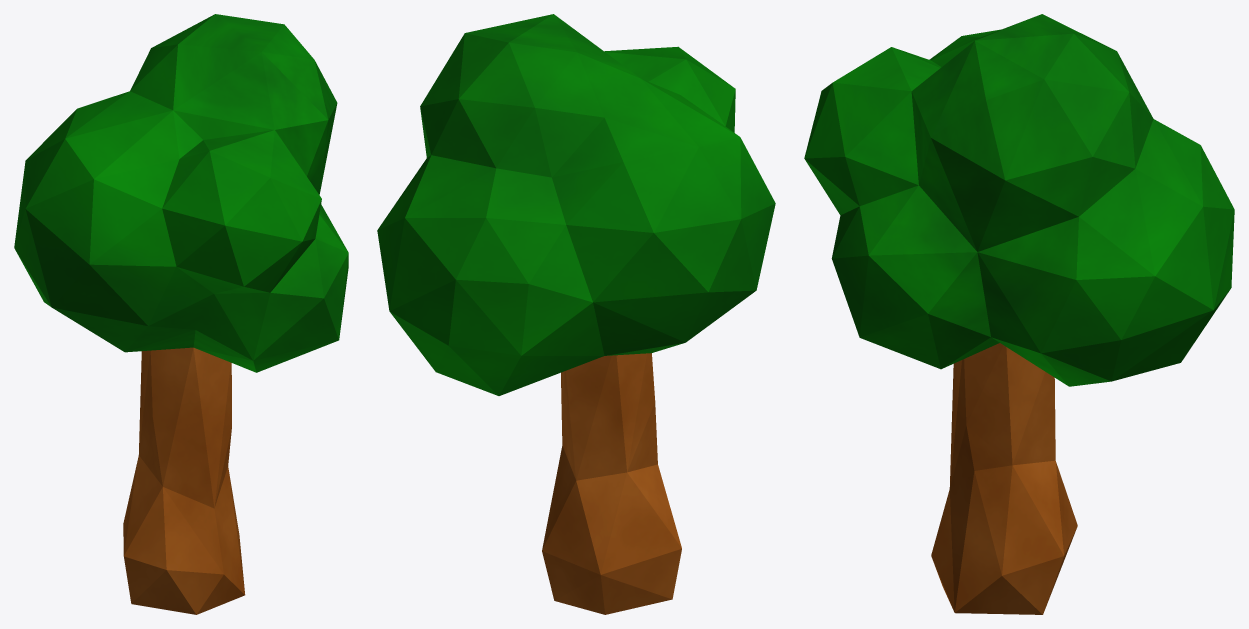
File: tree3.fbx
3 views of the same model, side by side, from view 1: azimuth 30°, elevation 25°; view 2: azimuth 150°, elevation 25°; view 3: azimuth 270°, elevation 25° (orthographic). The views are drawn at different scales.
Visible parts, largest first — view 1: Group30090; view 2: Group30090; view 3: Group30090.
Part boxes in pixels (<box>): Group30090: <box>14,14,348,614</box>; Group30090: <box>377,14,775,614</box>; Group30090: <box>804,14,1234,614</box>.
Bounding box in the file's own units: 277 × 471 × 307.
